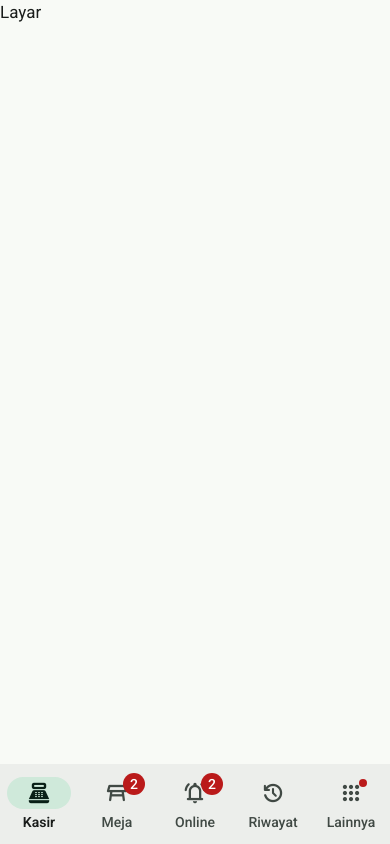
Test: NavigationBar (HP) › badge: order online baru, meja (QR / minta bill), siap diantar
Expected: the link with aria-label "Order online, 2 baru" is shown, [175,773,223,830]
Expected: the link with aria-label "Denah meja, 2 baru" is shown, [102,773,145,830]
# Driver tidak termasuk 4 slot → titik merah di Lainnya, angka tampil di lembar.
Click the button "Lainnya": {"x": 351, "y": 804} [312,764,389,843]
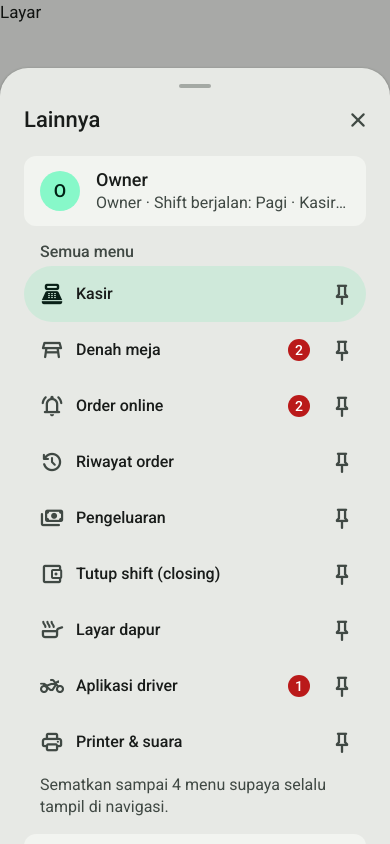
Now the button "Aplikasi driver 1" is shown, box [24,658,318,714]
